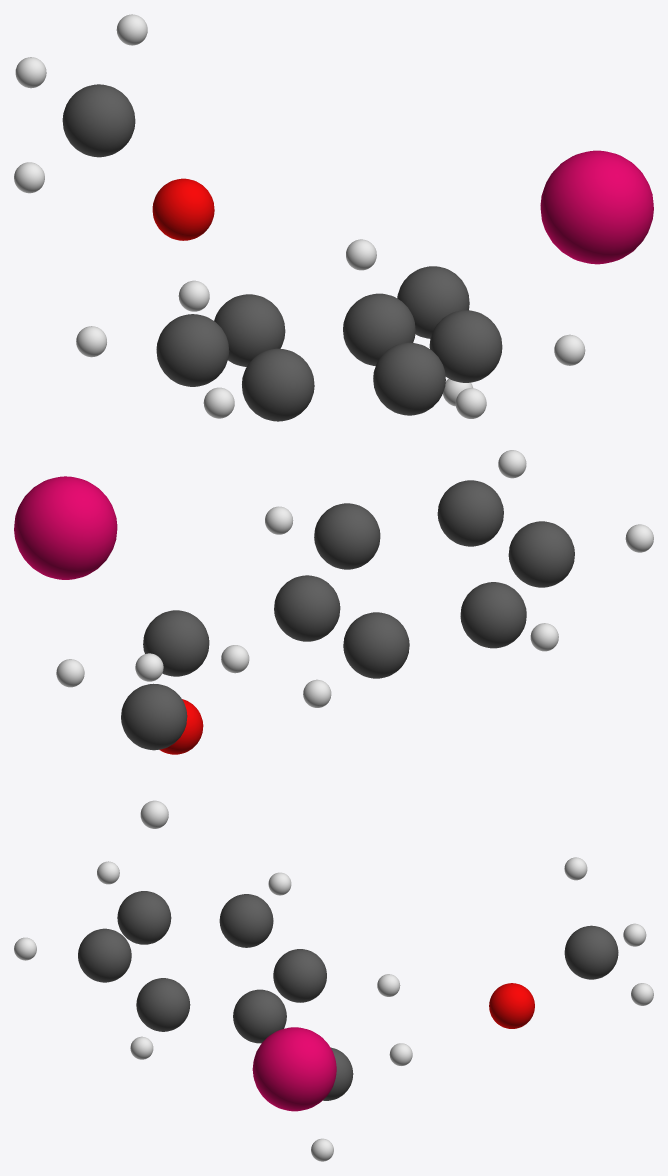
The model's file is MethylOxide_BenzylBromide.fbx.
3 views of the same model, one above another, from view 1: azimuth 30°, elevation 25°; view 2: azimuth 150°, elevation 25°; view 3: azimuth 270°, elevation 25° (orthographic). The views are drawn at different scales.
Visible parts, largest first — view 1: Br15, C05, C04, C03, C16, C06, C01, C02, C12, O20, H19, H07 (+7 smaller); view 2: Br15, C02, C04, C05, C01, C03, C06, C16, C12, O20, H14, H18 (+7 smaller); view 3: Br15, C16, C02, C05, C04, C06, C03, C01, O20, C12.
Part boxes in pixels (<box>): Br15: <box>540,150,653,264</box>; C05: <box>373,342,445,415</box>; C04: <box>242,348,314,421</box>; C03: <box>156,314,229,386</box>; C16: <box>62,84,135,157</box>; C06: <box>429,310,502,382</box>; C01: <box>343,293,415,365</box>; C02: <box>214,294,285,366</box>; C12: <box>397,266,469,338</box>; O20: <box>152,178,214,240</box>; H19: <box>15,57,46,88</box>; H07: <box>178,280,209,311</box>; Br15: <box>14,476,117,579</box>; C02: <box>343,612,409,678</box>; C04: <box>508,521,574,587</box>; C05: <box>437,480,503,546</box>; C01: <box>274,575,340,641</box>; C03: <box>460,582,526,648</box>; C06: <box>314,503,380,569</box>; C16: <box>121,683,187,750</box>; C12: <box>143,610,209,676</box>; O20: <box>159,699,203,754</box>; H14: <box>135,653,163,681</box>; H18: <box>56,659,84,687</box>; Br15: <box>252,1027,336,1111</box>; C16: <box>564,925,618,979</box>; C02: <box>273,949,326,1002</box>; C05: <box>78,928,131,982</box>; C04: <box>117,891,171,944</box>; C06: <box>136,978,190,1031</box>; C03: <box>219,894,273,947</box>; C01: <box>233,989,286,1043</box>; O20: <box>489,983,534,1028</box>; C12: <box>323,1047,353,1100</box>.
Bounding box in the file's own units: 687 × 322 × 890.
